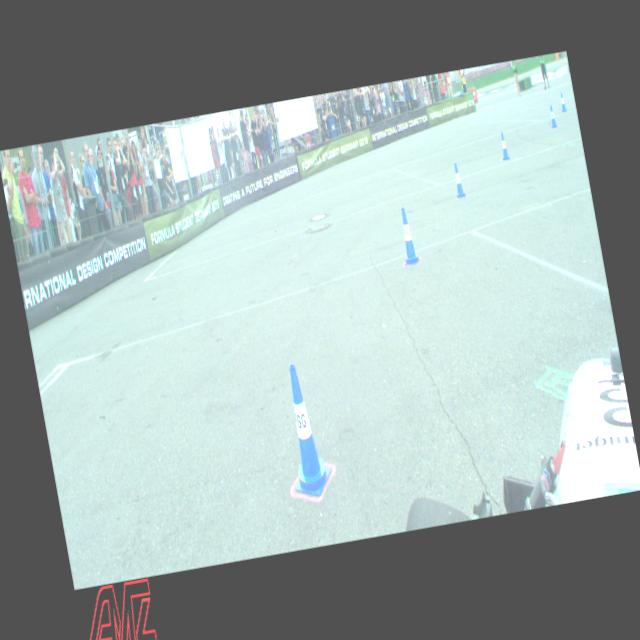blue_cone: (275, 362, 334, 498), (396, 207, 420, 266), (451, 162, 466, 198), (497, 131, 510, 160), (547, 104, 557, 128), (558, 90, 566, 112)
